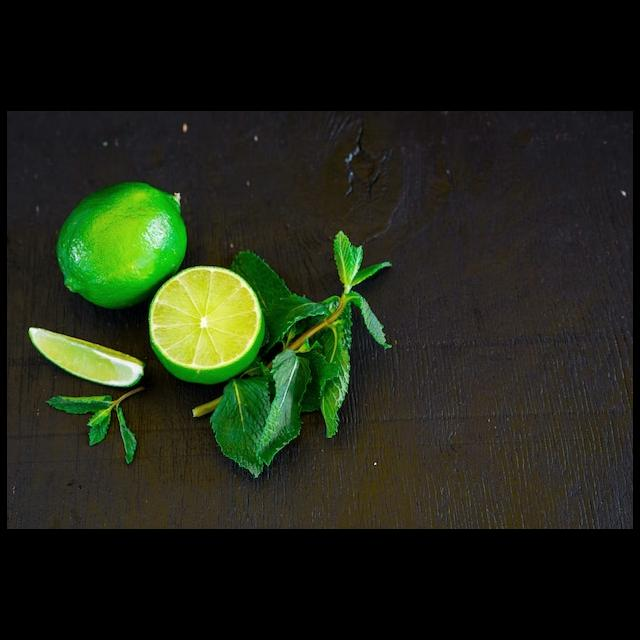lime: (55, 178, 194, 312)
